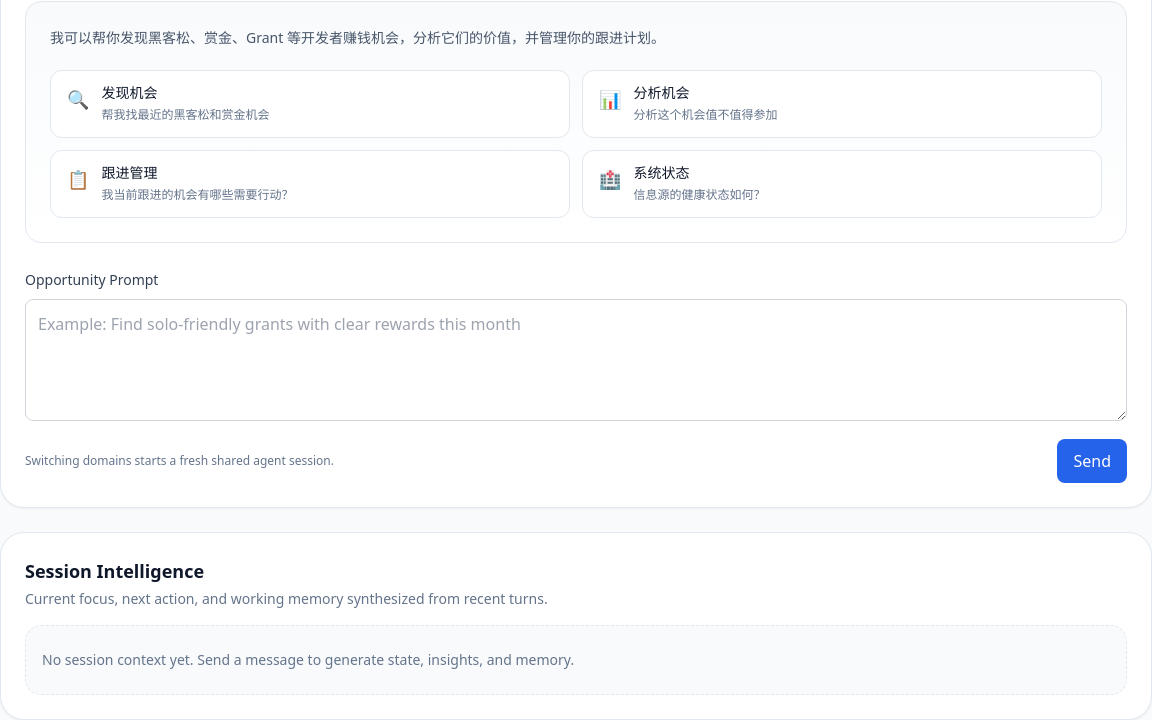
Test case: AgentWorkspacePage › creates an opportunity session and sends a user turn
(page scrolled)
Replace the text in the text box labelled "Opportunity Prompt" with "Find solo-friendly grants worth following up" at (576,360), box [25,299,1127,421]
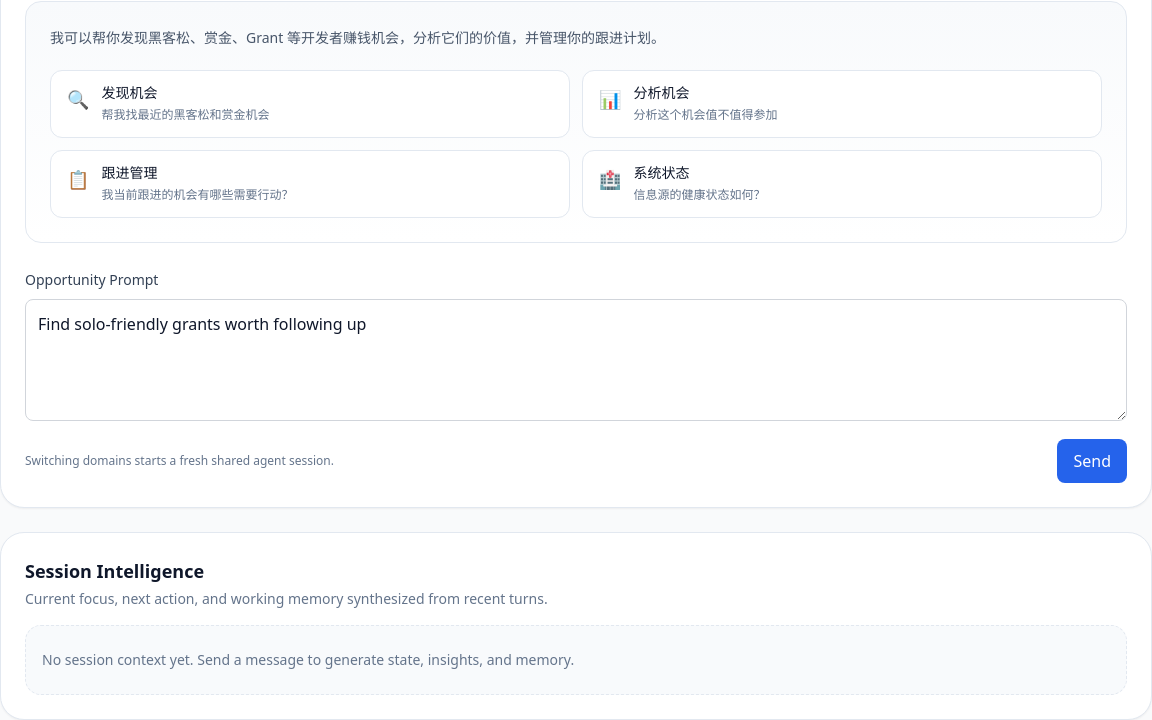
Click the button "Send".
click(1092, 461)  # box [1058,439,1127,483]
(page scrolled)
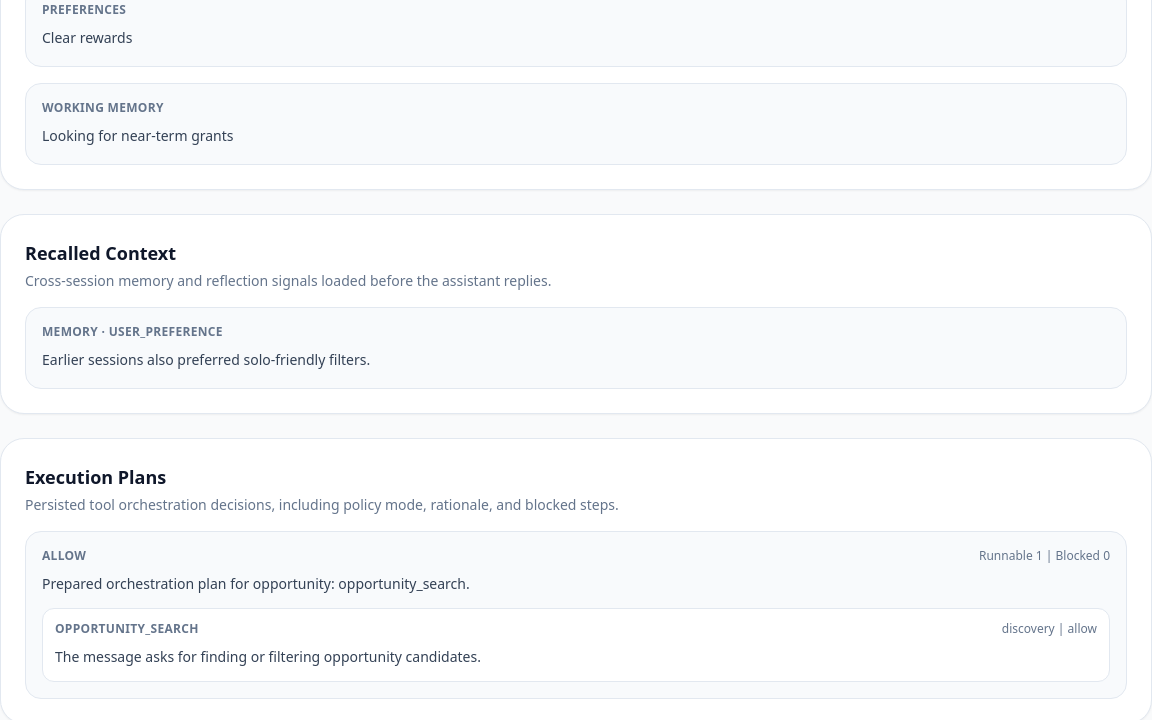
Check: the heading "Execution Plans" is shown, box [25,465,166,489]
Check: the text "Prepared orchestration plan for opportunity: opportunity_search." is shown, box [42,574,470,593]
Check: the text "Earlier sessions also preferred solo-friendly filters." is shown, box [42,350,370,369]
